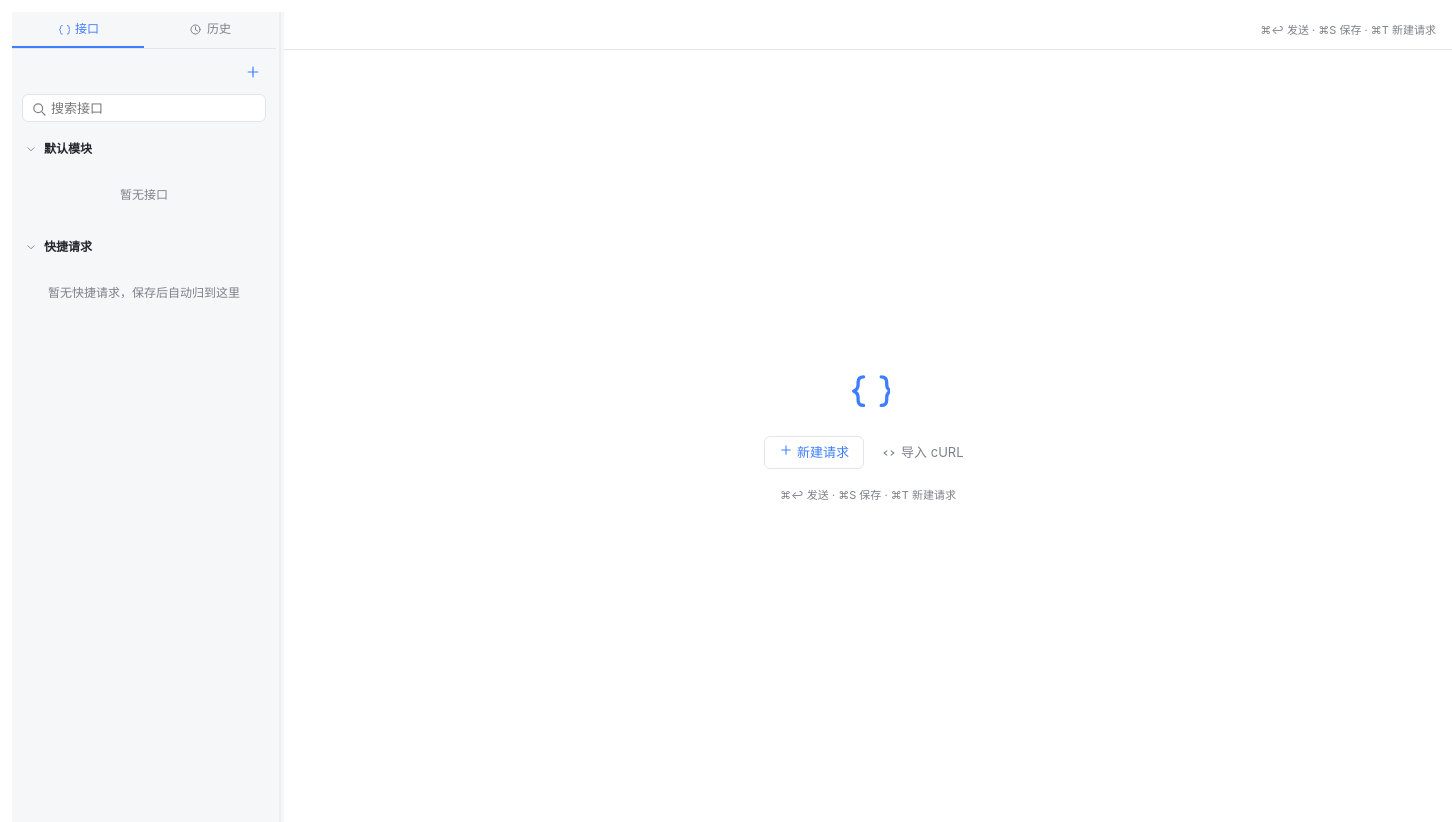
Test: tooltips › shows a title quickly, ahead of the native tooltip delay
Hover over the button named "添加" at coordinates (253, 72), box [240,59,266,85]
Wait 150 ms
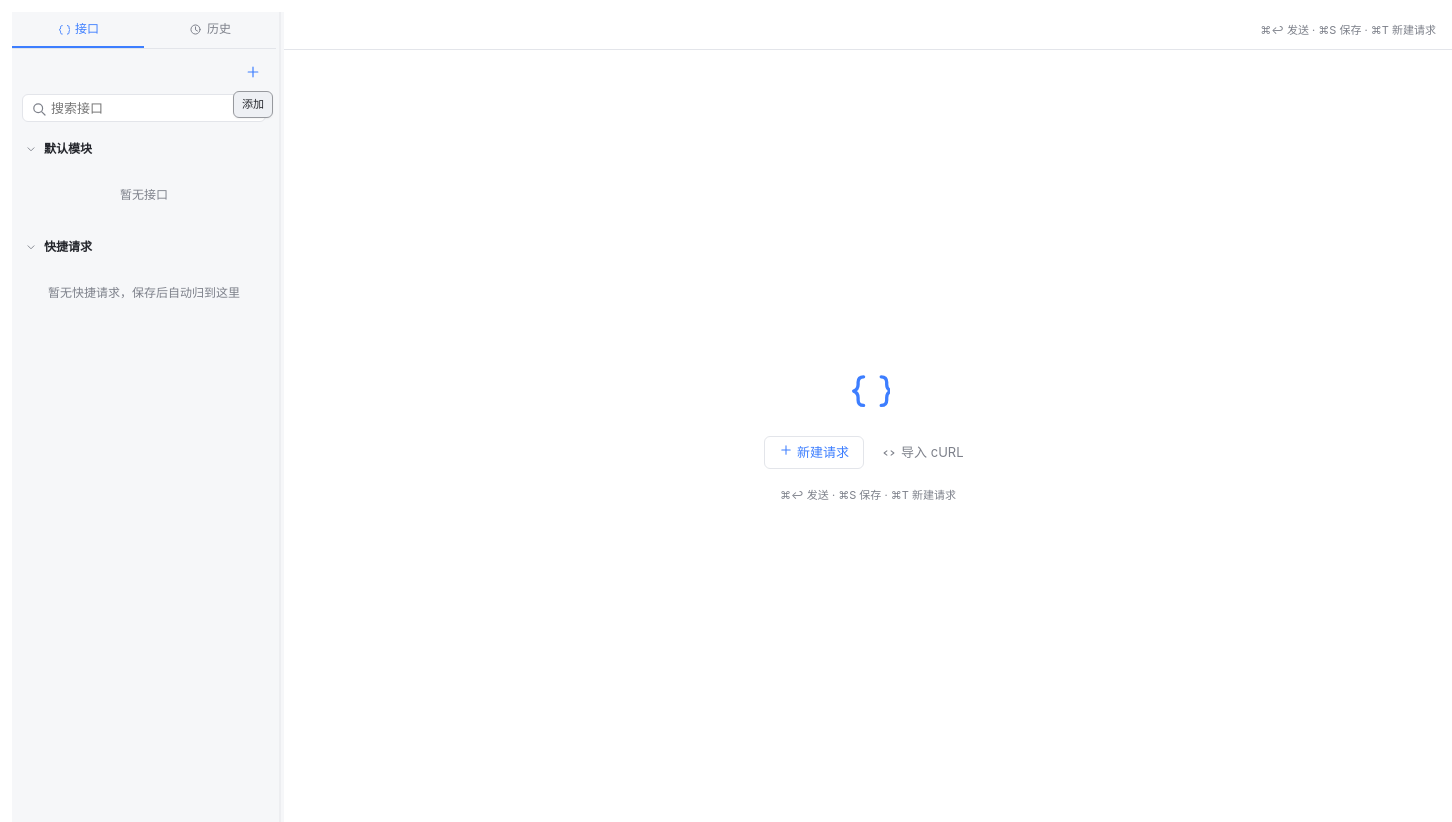
Check: the tooltip reads "添加", box [242,97,264,111]
